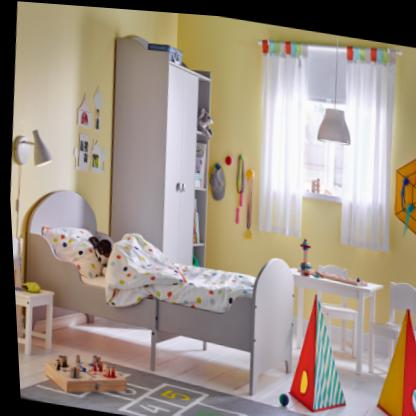Bed: (9, 181, 305, 401)
Chair: (359, 269, 416, 379)
